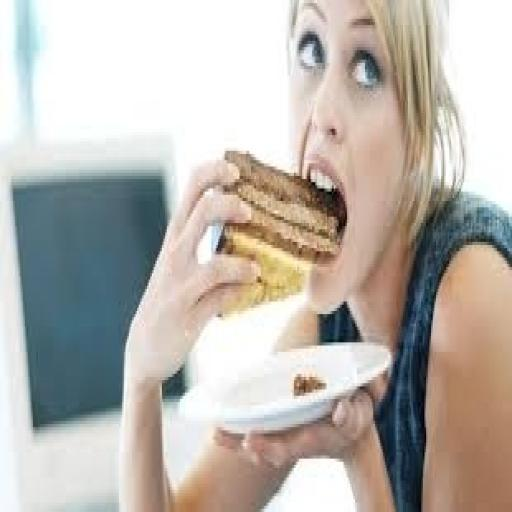eating: (116, 0, 510, 509)
